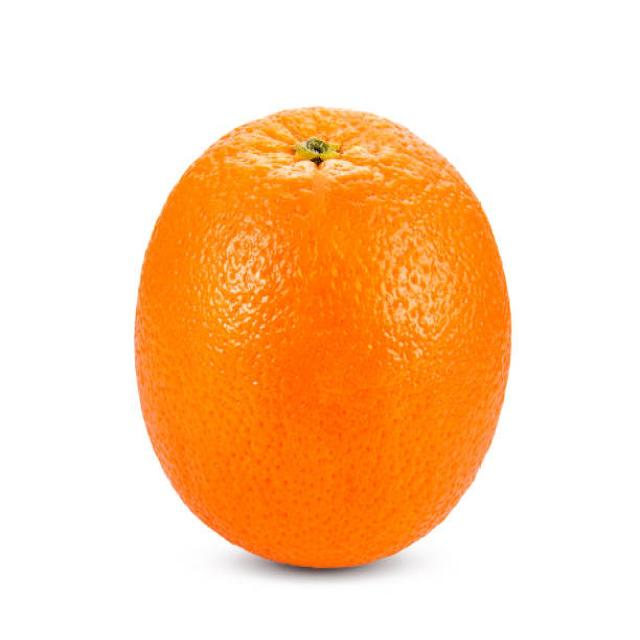Ripe: (125, 99, 520, 573)
